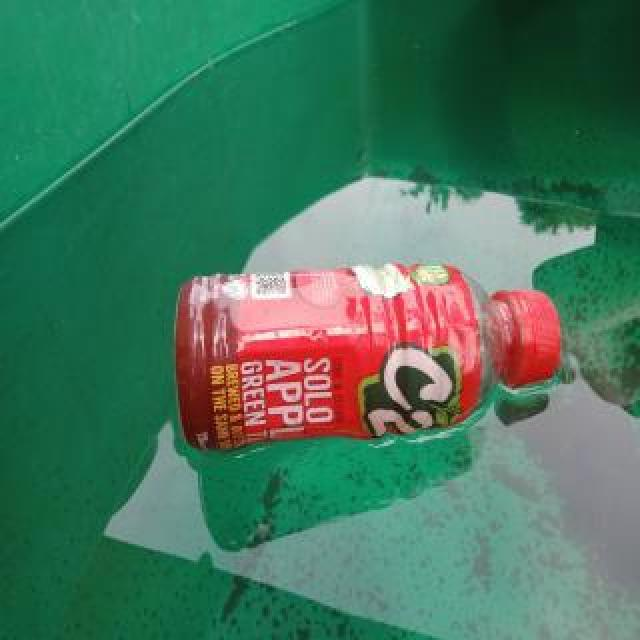Bottle: (167, 257, 572, 460)
